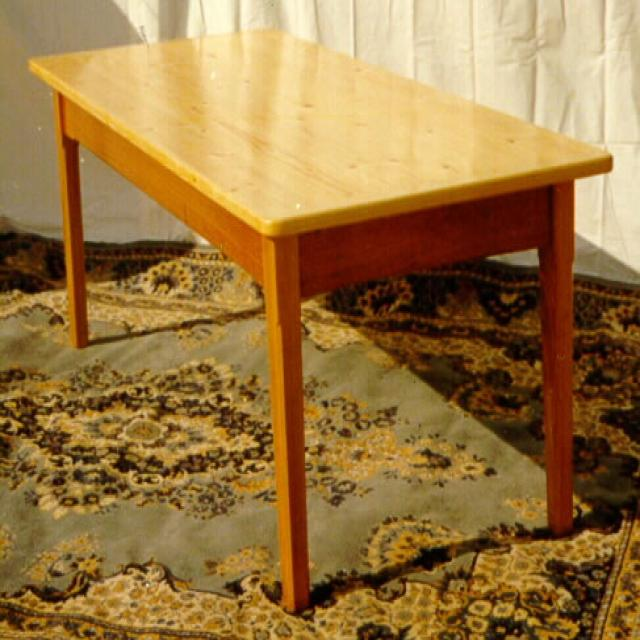table: (26, 25, 612, 617)
